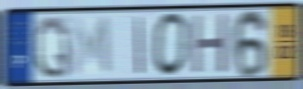6: (230, 6, 270, 80)
H: (191, 11, 230, 76)
I: (135, 15, 145, 76)
M: (70, 14, 113, 78)
O: (150, 11, 191, 79)
Q: (33, 14, 72, 81)
